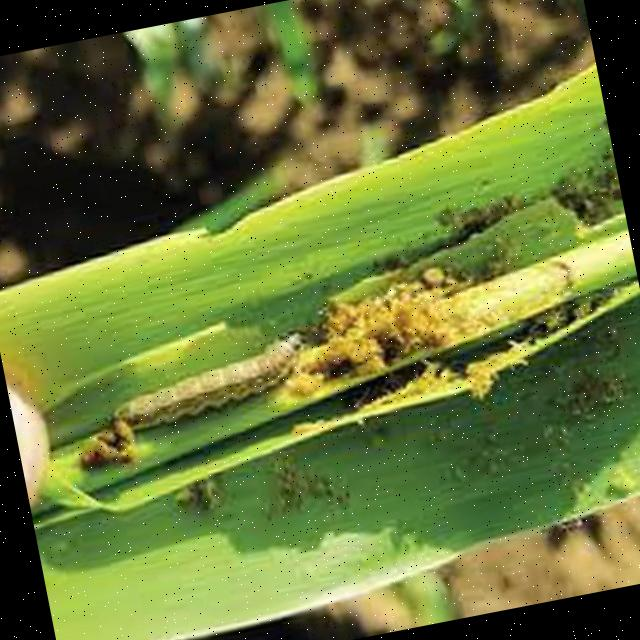worm: (102, 327, 320, 438)
